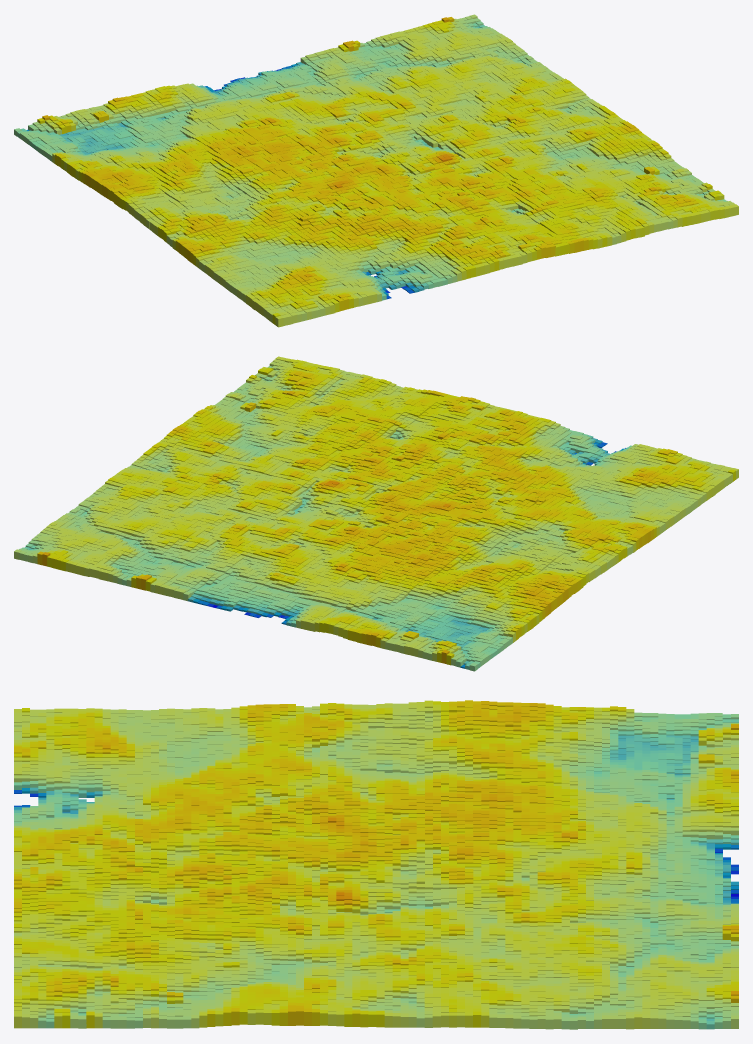
The model's file is population.glb.
The picture shows the model from 3 angles, top to bottom: view 1: azimuth 30°, elevation 25°; view 2: azimuth 150°, elevation 25°; view 3: azimuth 270°, elevation 25°; orthographic projection. The views are drawn at different scales.
Visible parts, largest first — view 1: population; view 2: population; view 3: population.
Part boxes in pixels (x1,y1,x2,y2): population: (14, 14, 738, 327); population: (14, 356, 738, 671); population: (14, 700, 738, 1029).
Bounding box in the file's own units: 9016 × 309 × 8955.
